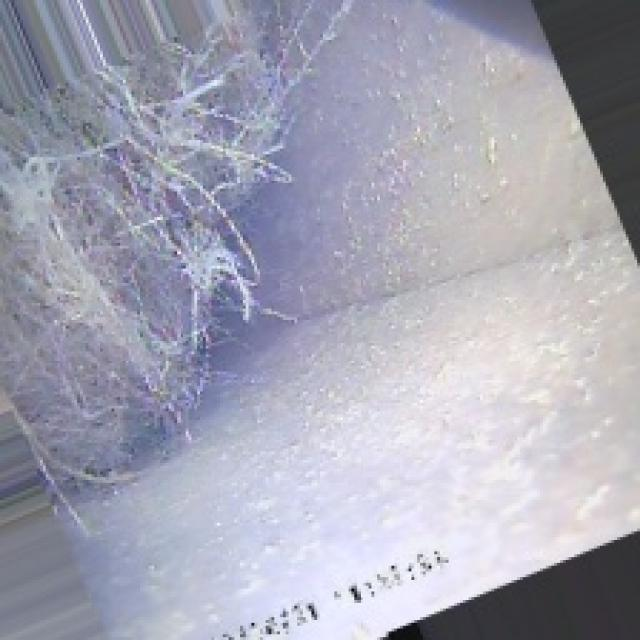Root_blockage: (14, 86, 294, 474)
